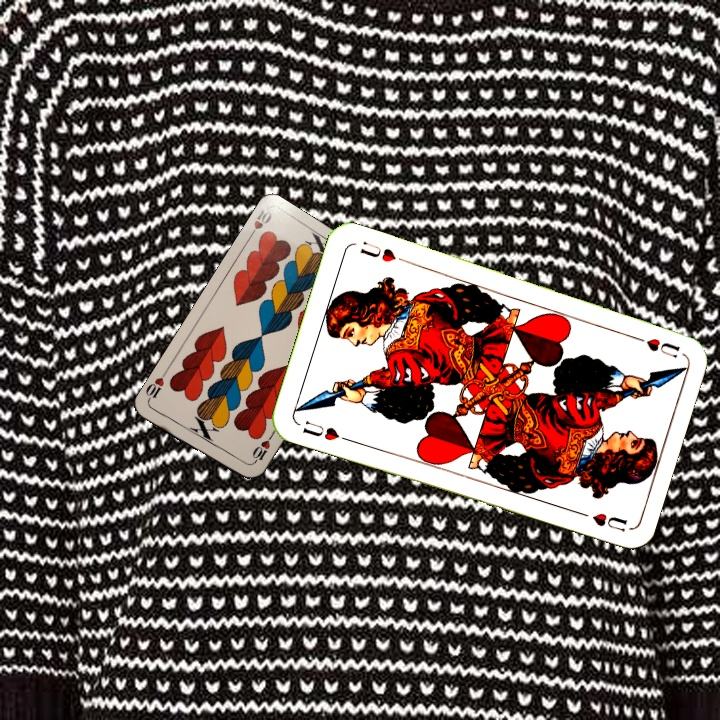H10: (244, 205, 275, 242), (247, 431, 275, 467)
HU: (626, 330, 683, 360), (298, 416, 352, 444)
